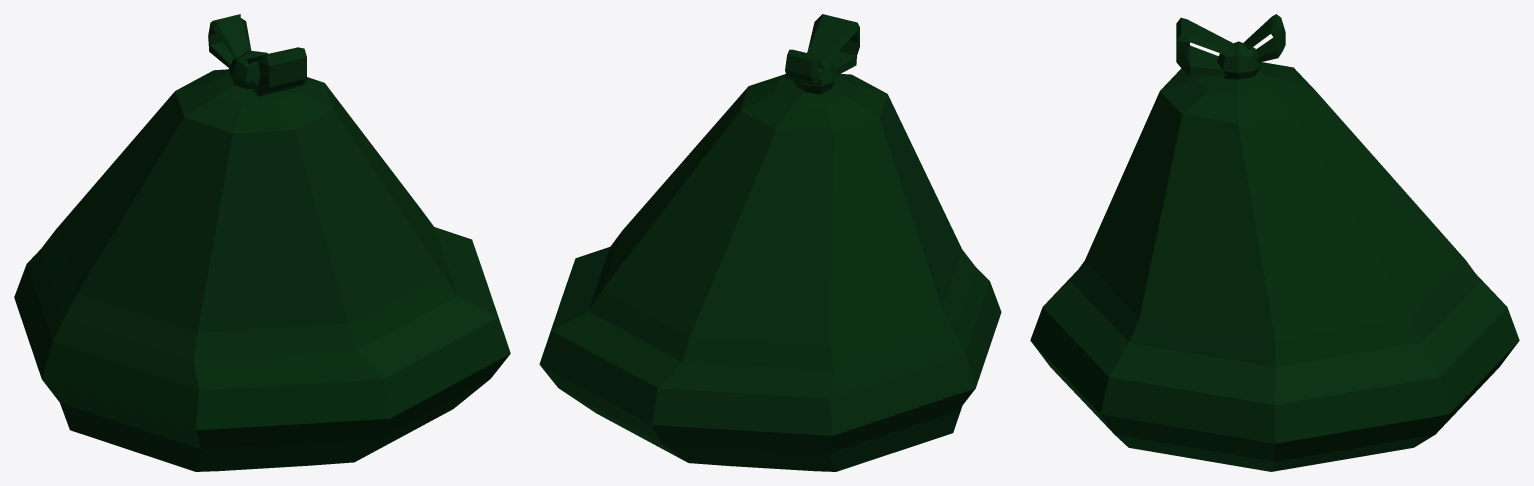
The model's file is BolsaBasura.fbx.
3 views of the same model, side by side, from view 1: azimuth 30°, elevation 25°; view 2: azimuth 150°, elevation 25°; view 3: azimuth 270°, elevation 25° (orthographic). The views are drawn at different scales.
Visible parts, largest first — view 1: Cube.003; view 2: Cube.003; view 3: Cube.003.
Part boxes in pixels (x1,y1,x2,y2): Cube.003: (14,14,510,471); Cube.003: (539,14,1001,471); Cube.003: (1030,14,1519,471).
Size of the model in its own units: 343 by 317 by 343.
